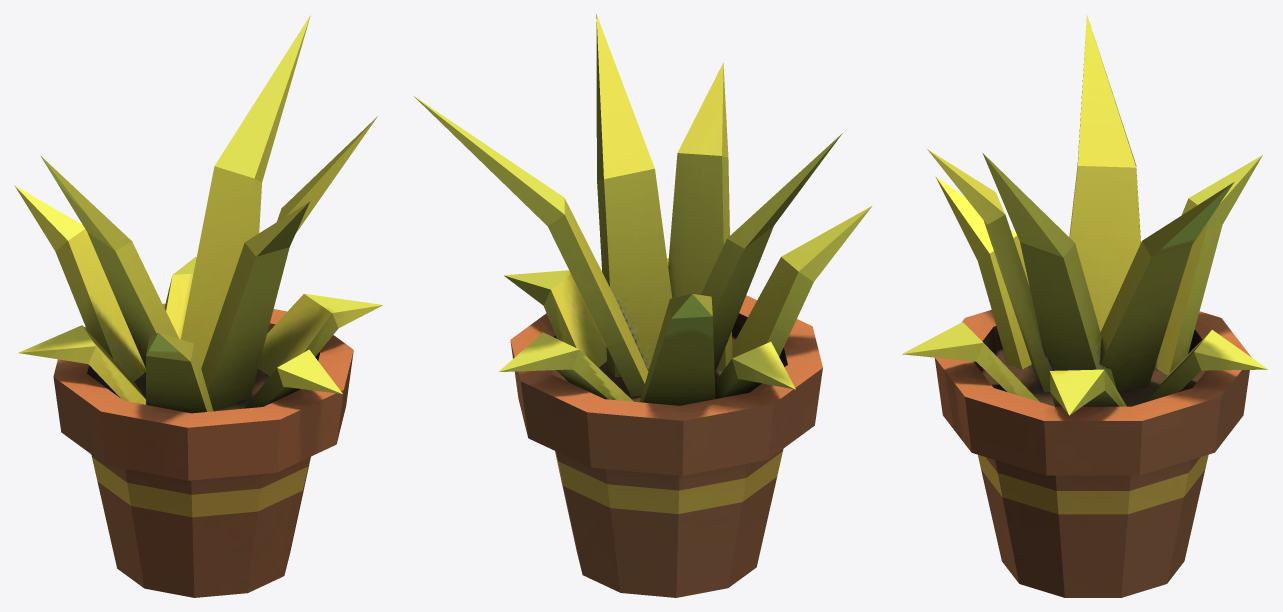
The model's file is 8KMKYzAqWjp.glb.
3 views of the same model, side by side, from view 1: azimuth 30°, elevation 25°; view 2: azimuth 150°, elevation 25°; view 3: azimuth 270°, elevation 25° (orthographic). The views are drawn at different scales.
Visible parts, largest first — view 1: plant; view 2: plant; view 3: plant.
Boxes of the visible parts, <box> form: plant: <box>14,14,382,597</box>; plant: <box>413,14,871,597</box>; plant: <box>902,15,1267,597</box>.
Size of the model in its own units: 0.7882 by 1 by 0.7083.
1 material, 1 textured.
